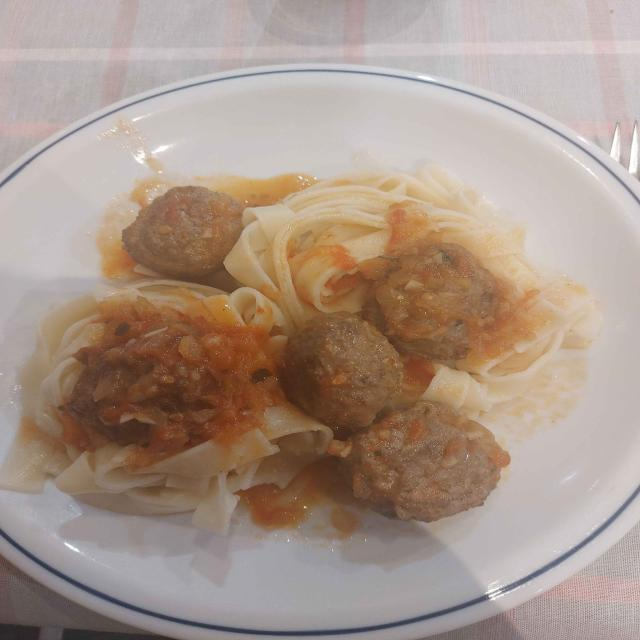garbage: (59, 295, 294, 465)
meatballs: (278, 240, 515, 521), (122, 186, 244, 281)
pasta: (0, 166, 602, 533)
plate: (0, 64, 640, 640)
